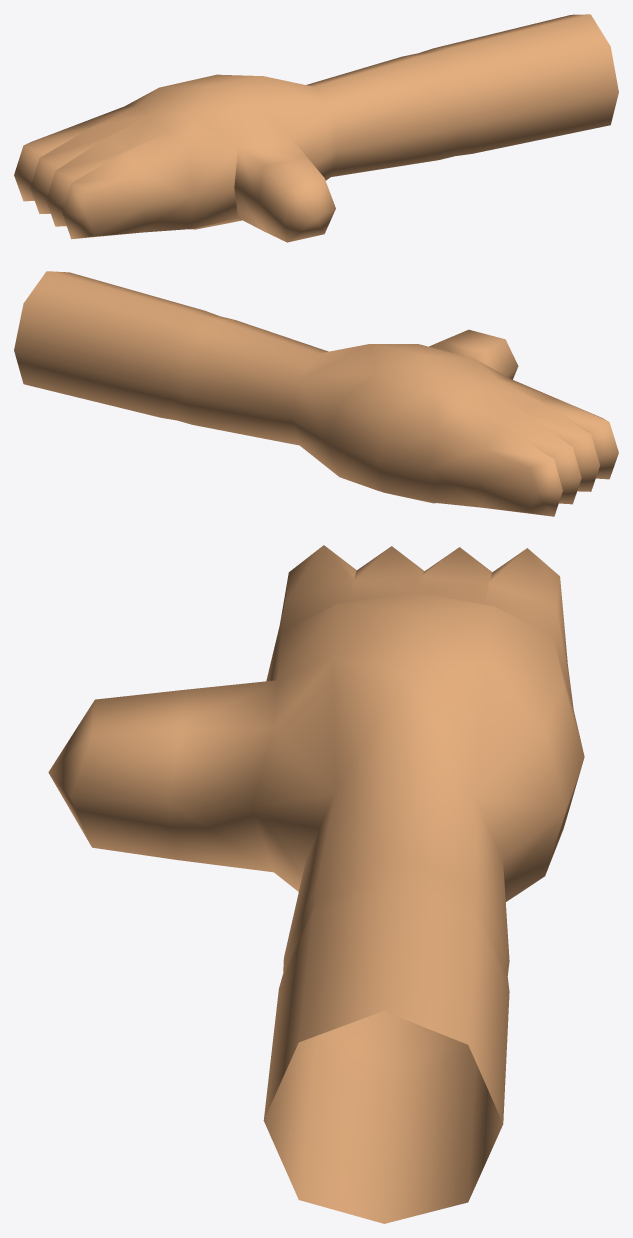
File: BrazoDer.obj
3 views of the same model, one above another, from view 1: azimuth 30°, elevation 25°; view 2: azimuth 150°, elevation 25°; view 3: azimuth 270°, elevation 25° (orthographic). The views are drawn at different scales.
Visible parts, largest first — view 1: BrazoDer:polySurface1Mesh3; view 2: BrazoDer:polySurface1Mesh3; view 3: BrazoDer:polySurface1Mesh3.
Boxes of the visible parts, left/top/right/bottom form: BrazoDer:polySurface1Mesh3: left=14, top=14, right=618, bottom=242; BrazoDer:polySurface1Mesh3: left=14, top=271, right=618, bottom=516; BrazoDer:polySurface1Mesh3: left=48, top=545, right=584, bottom=1223.
Bounding box in the file's own units: 0.199 × 0.0467 × 0.0848.
1 material, 1 textured.
